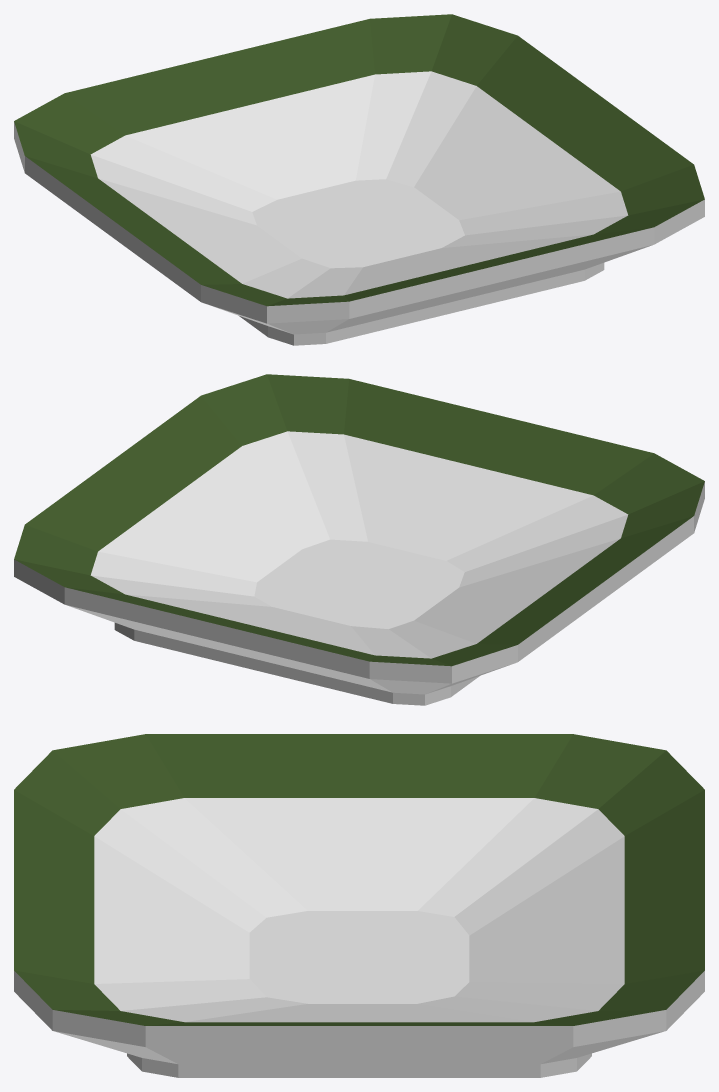
The model's file is R_Plate_Soup_2.fbx.
3 renders of one model, top to bottom at view 1: azimuth 30°, elevation 25°; view 2: azimuth 150°, elevation 25°; view 3: azimuth 270°, elevation 25°, orthographic. The views are drawn at different scales.
Visible parts, largest first — view 1: R_Plate_Soup_2; view 2: R_Plate_Soup_2; view 3: R_Plate_Soup_2.
Part boxes in pixels (left/top/right/bottom): R_Plate_Soup_2: left=14, top=14, right=704, bottom=345; R_Plate_Soup_2: left=14, top=374, right=704, bottom=705; R_Plate_Soup_2: left=14, top=734, right=704, bottom=1077.
Size of the model in its own units: 172 by 172 by 27.37.
